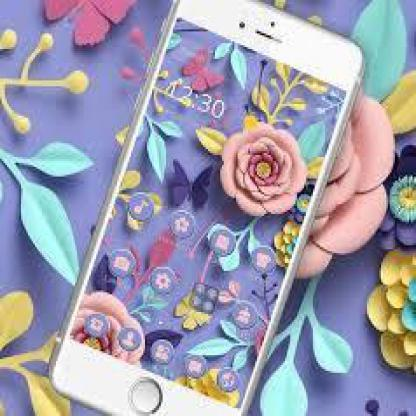Kenanga: (129, 46, 304, 205), (40, 147, 217, 269)
